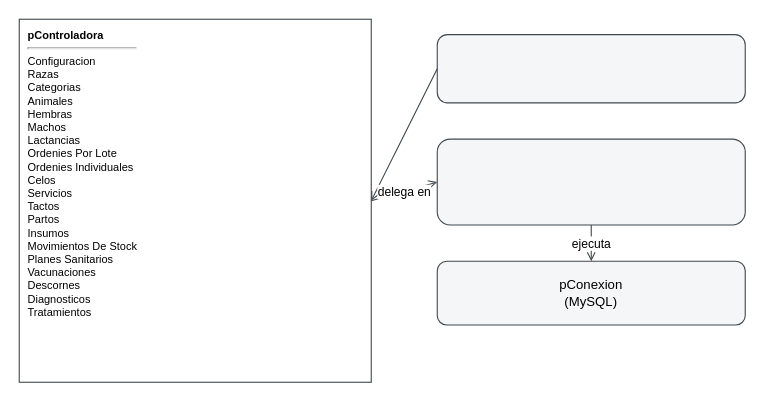
The diagram is 765 pixels wide and 402 high, and some of its shapes have lost their labels. The shapes that lost their labels are listed below. From the top down, each one's centre as x and y in pixels, then its label:
At point 590,68: "Controladora (única que la invoca)".
At point 590,181: "Clases de acceso a datos pAnimal, pHembra, pServicio, …".
